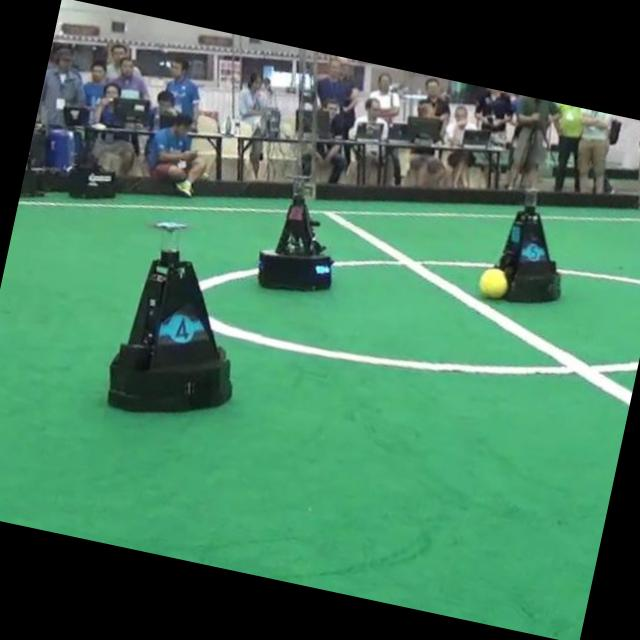ball: (479, 267, 507, 297)
robot: (107, 249, 231, 410), (258, 195, 332, 289), (498, 205, 559, 300)
